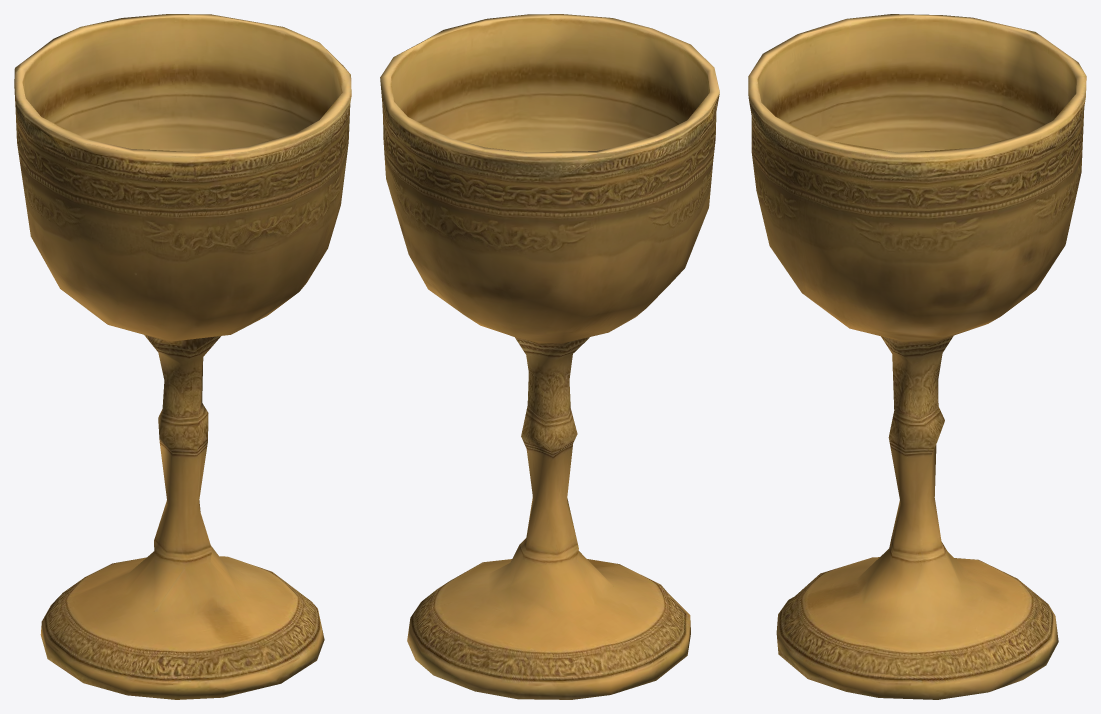
File: goblet-gold.glb
The picture shows the model from 3 angles, left to right: view 1: azimuth 30°, elevation 25°; view 2: azimuth 150°, elevation 25°; view 3: azimuth 270°, elevation 25°; orthographic projection.
Parts seen in each view (by area): view 1: Mesh1.0; view 2: Mesh1.0; view 3: Mesh1.0.
Boxes of the visible parts, x1,y1,x2,y2 form: Mesh1.0: [14, 14, 351, 699]; Mesh1.0: [380, 14, 719, 699]; Mesh1.0: [748, 14, 1086, 699].
Size of the model in its own units: 1.05 by 1.91 by 1.05.
1 material, 1 textured.
